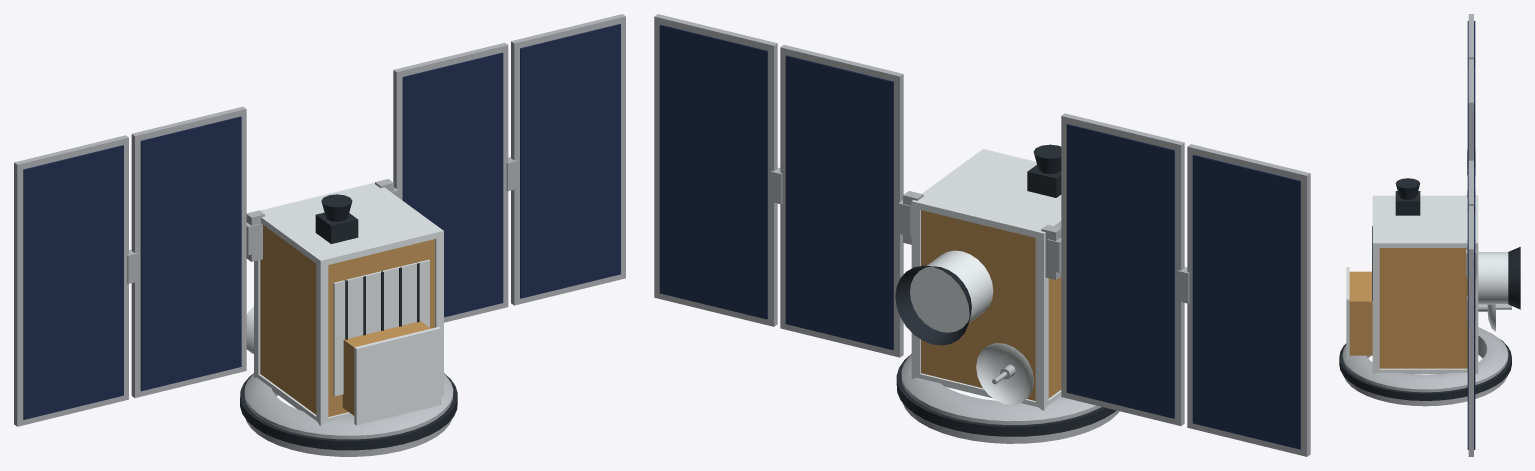
The model's file is satpwr_large_deployable_array.glb.
3 views of the same model, side by side, from view 1: azimuth 30°, elevation 25°; view 2: azimuth 150°, elevation 25°; view 3: azimuth 270°, elevation 25° (orthographic). The views are drawn at different scales.
Parts seen in each view (by area): view 1: satpwr_large_deployable_array_mesh, satpwr_large_deployable_array_wing_l_mesh, satpwr_large_deployable_array_wing_l_outer_mesh, satpwr_large_deployable_array_wing_r_outer_mesh, satpwr_large_deployable_array_wing_r_mesh; view 2: satpwr_large_deployable_array_mesh, satpwr_large_deployable_array_wing_l_mesh, satpwr_large_deployable_array_wing_l_outer_mesh, satpwr_large_deployable_array_wing_r_mesh, satpwr_large_deployable_array_wing_r_outer_mesh; view 3: satpwr_large_deployable_array_mesh, satpwr_large_deployable_array_wing_r_outer_mesh, satpwr_large_deployable_array_wing_l_mesh, satpwr_large_deployable_array_wing_r_mesh, satpwr_large_deployable_array_wing_l_outer_mesh.
Boxes of the visible parts, x1,y1,x2,y2 form: satpwr_large_deployable_array_mesh: [240, 182, 457, 456]; satpwr_large_deployable_array_wing_l_mesh: [131, 106, 264, 397]; satpwr_large_deployable_array_wing_l_outer_mesh: [14, 135, 137, 426]; satpwr_large_deployable_array_wing_r_outer_mesh: [506, 14, 625, 305]; satpwr_large_deployable_array_wing_r_mesh: [375, 42, 508, 322]; satpwr_large_deployable_array_mesh: [895, 144, 1119, 443]; satpwr_large_deployable_array_wing_l_mesh: [1041, 113, 1184, 425]; satpwr_large_deployable_array_wing_l_outer_mesh: [1178, 144, 1310, 456]; satpwr_large_deployable_array_wing_r_mesh: [780, 45, 923, 357]; satpwr_large_deployable_array_wing_r_outer_mesh: [654, 14, 782, 326]; satpwr_large_deployable_array_mesh: [1339, 178, 1520, 406]; satpwr_large_deployable_array_wing_r_outer_mesh: [1467, 206, 1475, 456]; satpwr_large_deployable_array_wing_l_mesh: [1466, 59, 1476, 197]; satpwr_large_deployable_array_wing_r_mesh: [1466, 160, 1476, 280]; satpwr_large_deployable_array_wing_l_outer_mesh: [1467, 14, 1475, 175].
Size of the model in its own units: 3.16 by 1.5 by 1.03.
